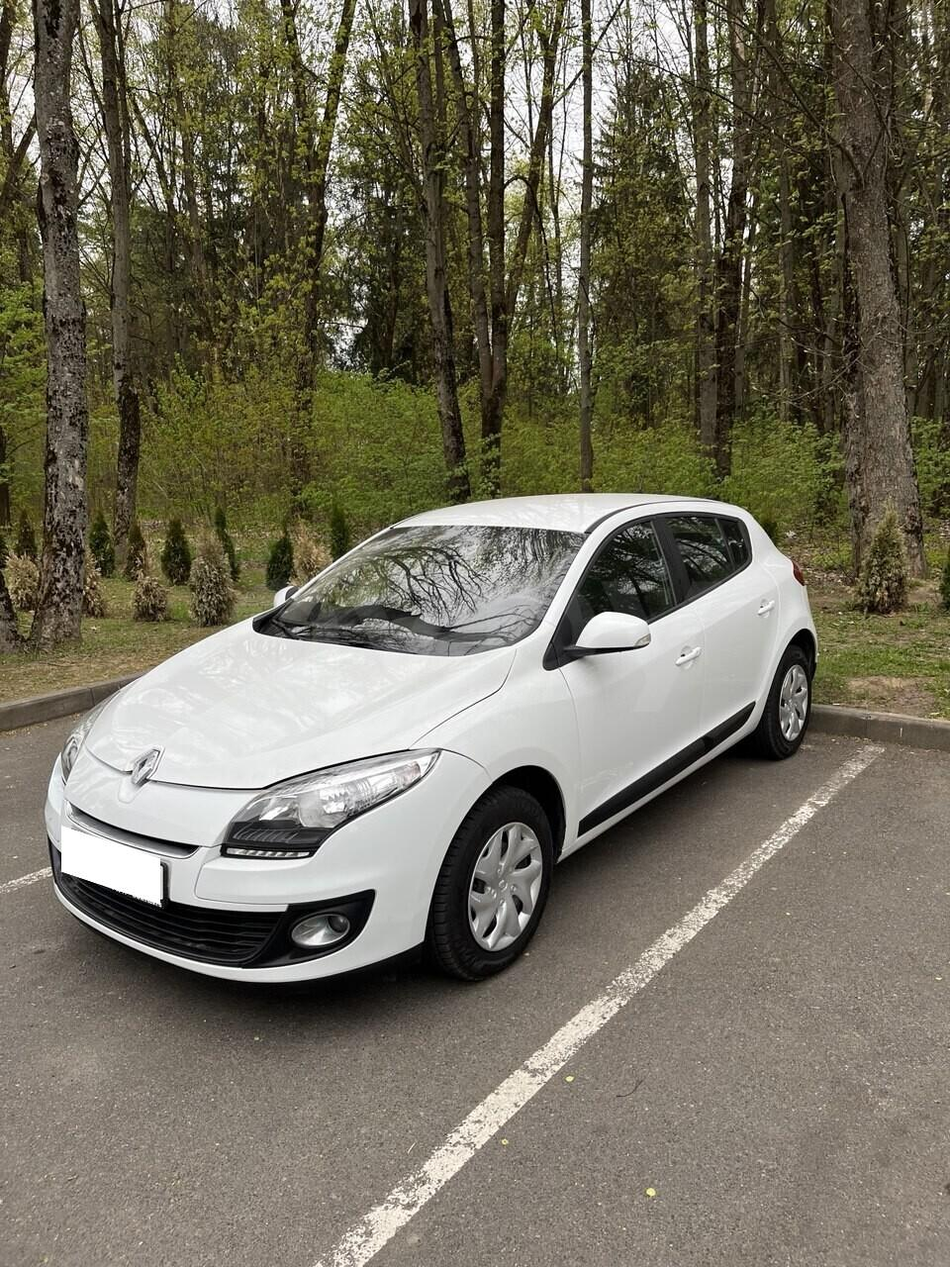Megane_2012-2014: (46, 487, 821, 990)
